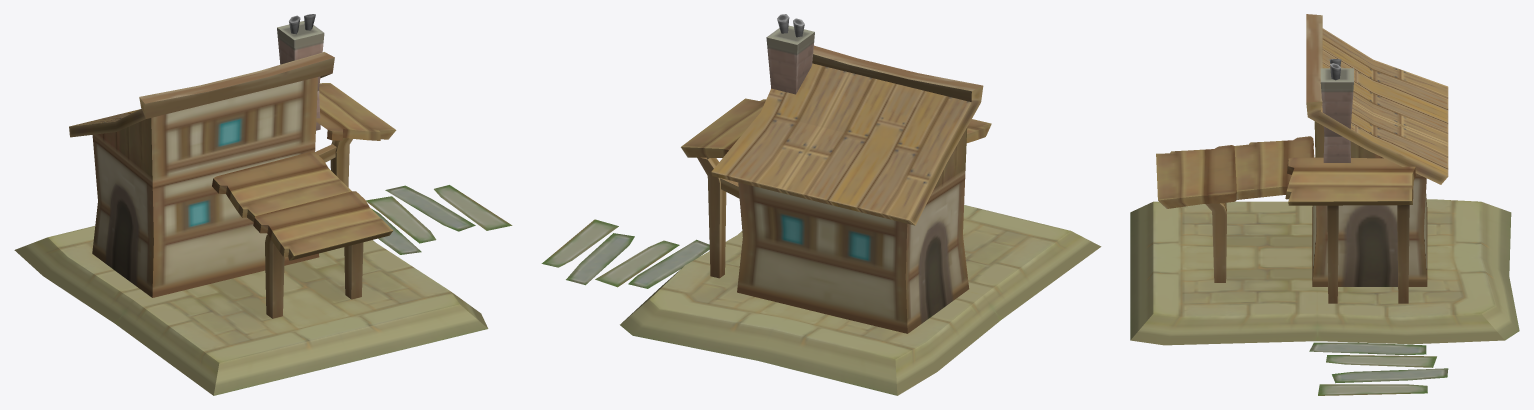
File: field_Buildings_001c.fbx
3 views of the same model, side by side, from view 1: azimuth 30°, elevation 25°; view 2: azimuth 150°, elevation 25°; view 3: azimuth 270°, elevation 25° (orthographic). The views are drawn at different scales.
Parts seen in each view (by area): view 1: field_Buildings_001c; view 2: field_Buildings_001c; view 3: field_Buildings_001c.
Boxes of the visible parts, x1,y1,x2,y2 form: field_Buildings_001c: (14, 14, 512, 395); field_Buildings_001c: (541, 14, 1101, 395); field_Buildings_001c: (1130, 14, 1519, 395).
Bounding box in the file's own units: 184 × 111 × 162.
1 material, 1 textured.
